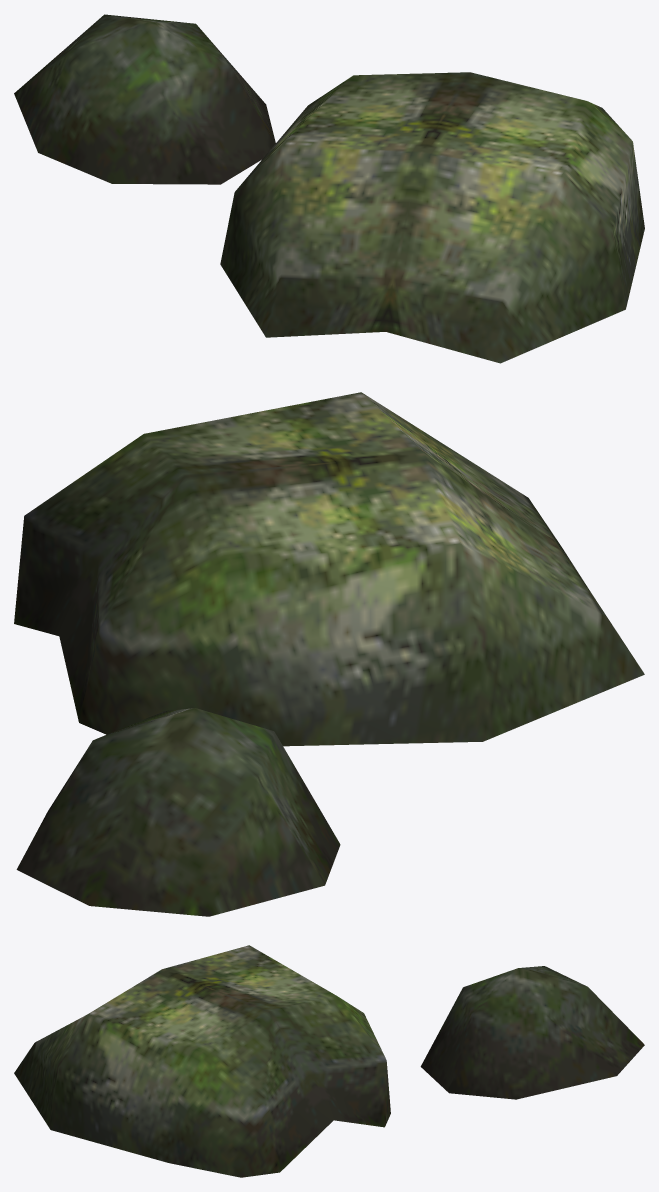
File: 2014_Item_shitou_2.FBX
3 renders of one model, top to bottom at view 1: azimuth 30°, elevation 25°; view 2: azimuth 150°, elevation 25°; view 3: azimuth 270°, elevation 25°, orthographic. The views are drawn at different scales.
Parts seen in each view (by area): view 1: 2014_Item_shitou_2; view 2: 2014_Item_shitou_2; view 3: 2014_Item_shitou_2.
Boxes of the visible parts, left/top/right/bottom form: 2014_Item_shitou_2: left=14, top=14, right=644, bottom=363; 2014_Item_shitou_2: left=14, top=392, right=644, bottom=916; 2014_Item_shitou_2: left=14, top=945, right=644, bottom=1177.
Bounding box in the file's own units: 1002 × 334 × 1669.
